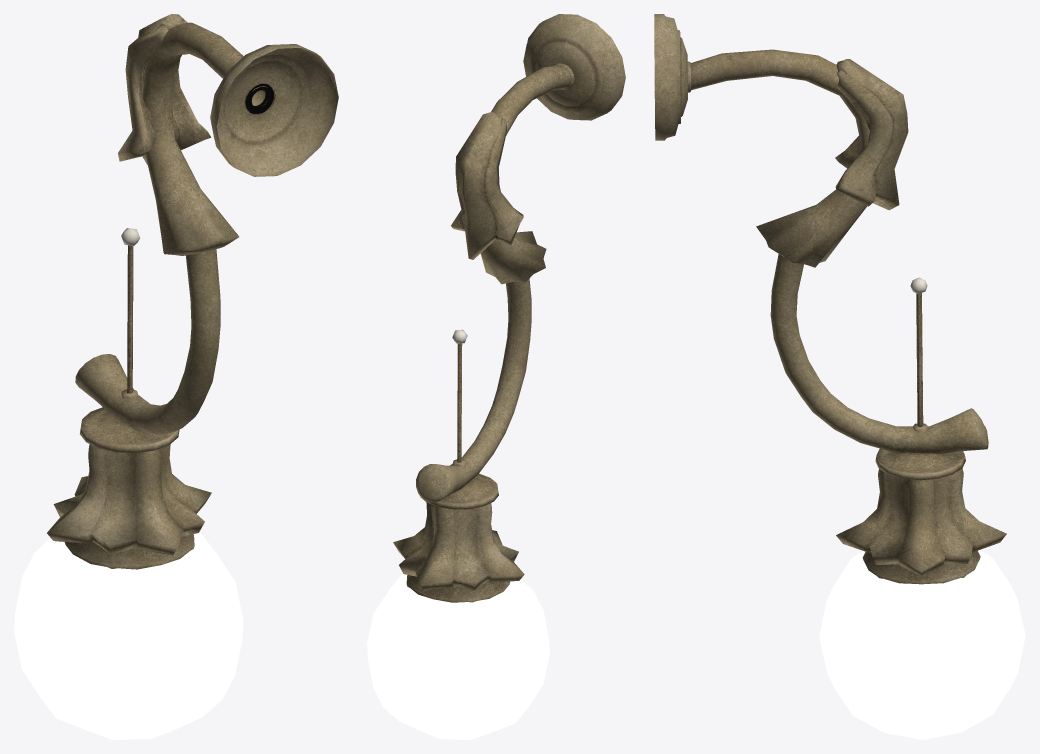
The model's file is lamp.glb.
3 views of the same model, side by side, from view 1: azimuth 30°, elevation 25°; view 2: azimuth 150°, elevation 25°; view 3: azimuth 270°, elevation 25° (orthographic). The views are drawn at different scales.
Visible parts, largest first — view 1: Circle.002; view 2: Circle.002; view 3: Circle.002.
Part boxes in pixels (x1=…): Circle.002: x1=14, y1=14, x2=338, y2=739; Circle.002: x1=367, y1=14, x2=625, y2=739; Circle.002: x1=654, y1=14, x2=1025, y2=739.
Size of the model in its own units: 0.1104 by 0.419 by 0.1986.
1 material, 1 textured.
